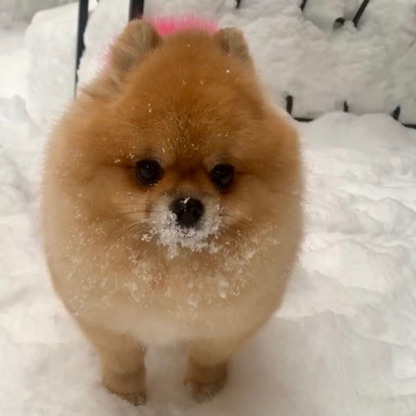Pomeranian: (38, 32, 323, 401)
